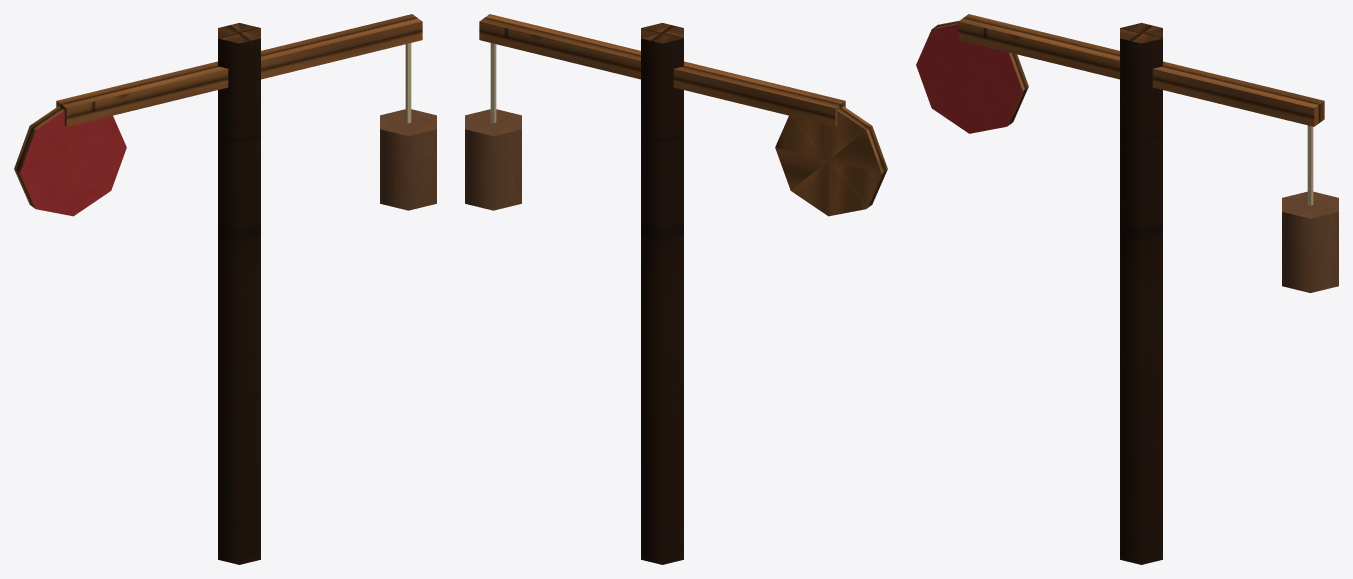
The model's file is quintain.glb.
3 views of the same model, side by side, from view 1: azimuth 30°, elevation 25°; view 2: azimuth 150°, elevation 25°; view 3: azimuth 330°, elevation 25° (orthographic).
Visible parts, largest first — view 1: props_0_0; view 2: props_0_0; view 3: props_0_0.
Part boxes in pixels (box(x1,y1,x2,y2)): props_0_0: box(14, 14, 436, 564); props_0_0: box(465, 14, 887, 564); props_0_0: box(916, 14, 1338, 564).
Size of the model in its own units: 2.36 by 2.8 by 0.2771.
1 material, 1 textured.
